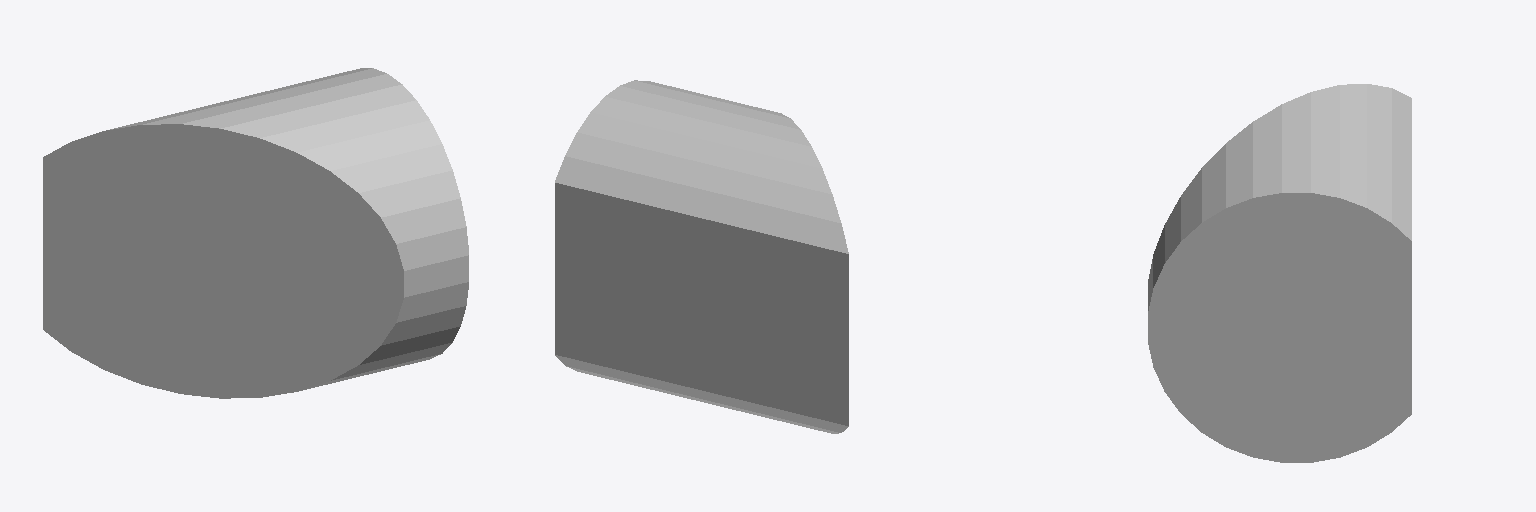
The model's file is sgc_door_latch_bolt.obj.
3 views of the same model, side by side, from view 1: azimuth 30°, elevation 25°; view 2: azimuth 150°, elevation 25°; view 3: azimuth 270°, elevation 25° (orthographic).
Parts seen in each view (by area): view 1: Door_Latch_Bolt_Low; view 2: Door_Latch_Bolt_Low; view 3: Door_Latch_Bolt_Low.
Boxes of the visible parts, x1,y1,x2,y2 form: Door_Latch_Bolt_Low: [43, 68, 468, 398]; Door_Latch_Bolt_Low: [555, 80, 848, 433]; Door_Latch_Bolt_Low: [1148, 84, 1411, 462].
Size of the model in its own units: 0.0289 by 0.0253 by 0.0225.